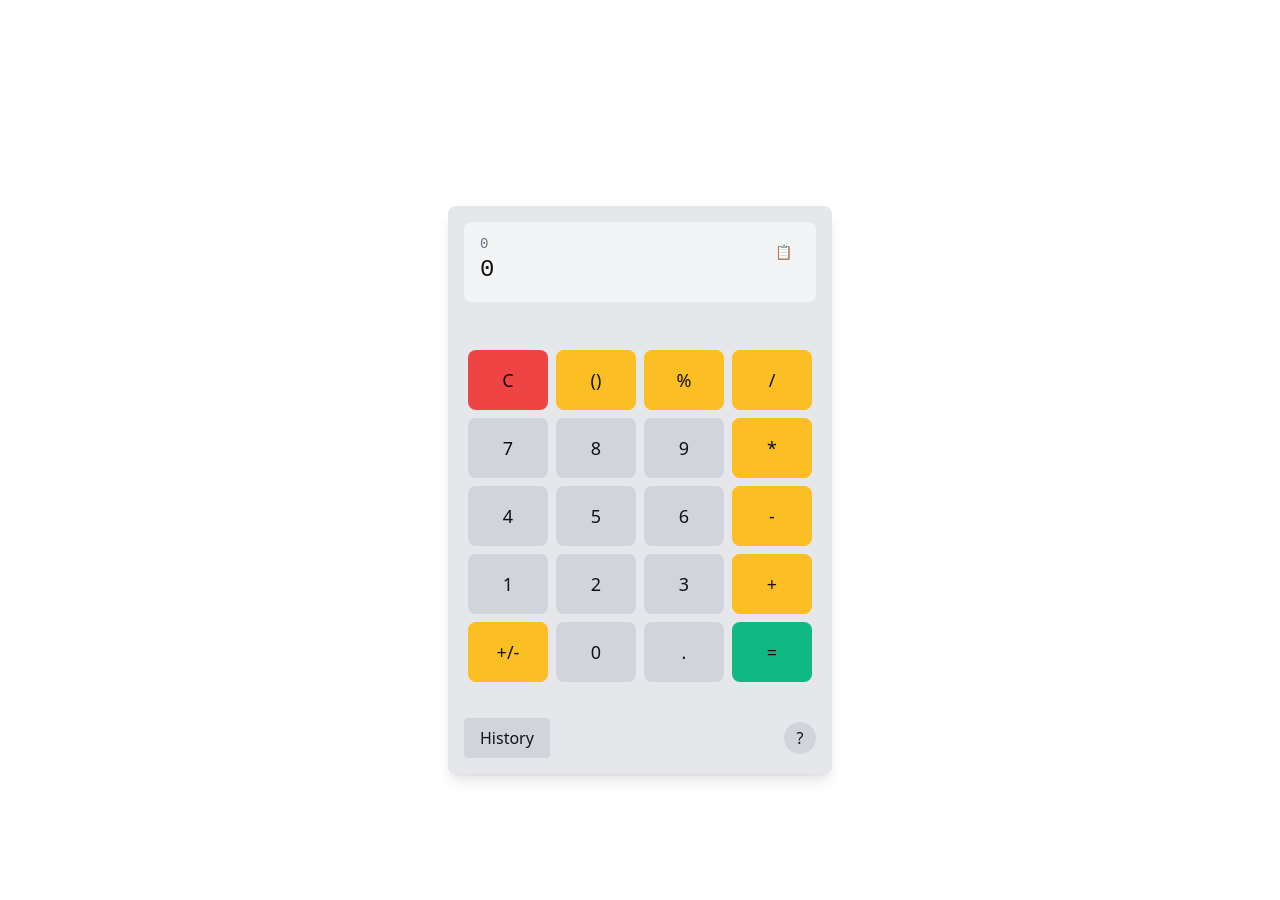
Test: Calculator integration with testIds › opens HelpModal via the “?” button and closes with its Close button
Expected: the text "Keyboard Shortcuts" is not shown
Click the button named "help". click: (800, 738)
box: [784, 722, 816, 754]
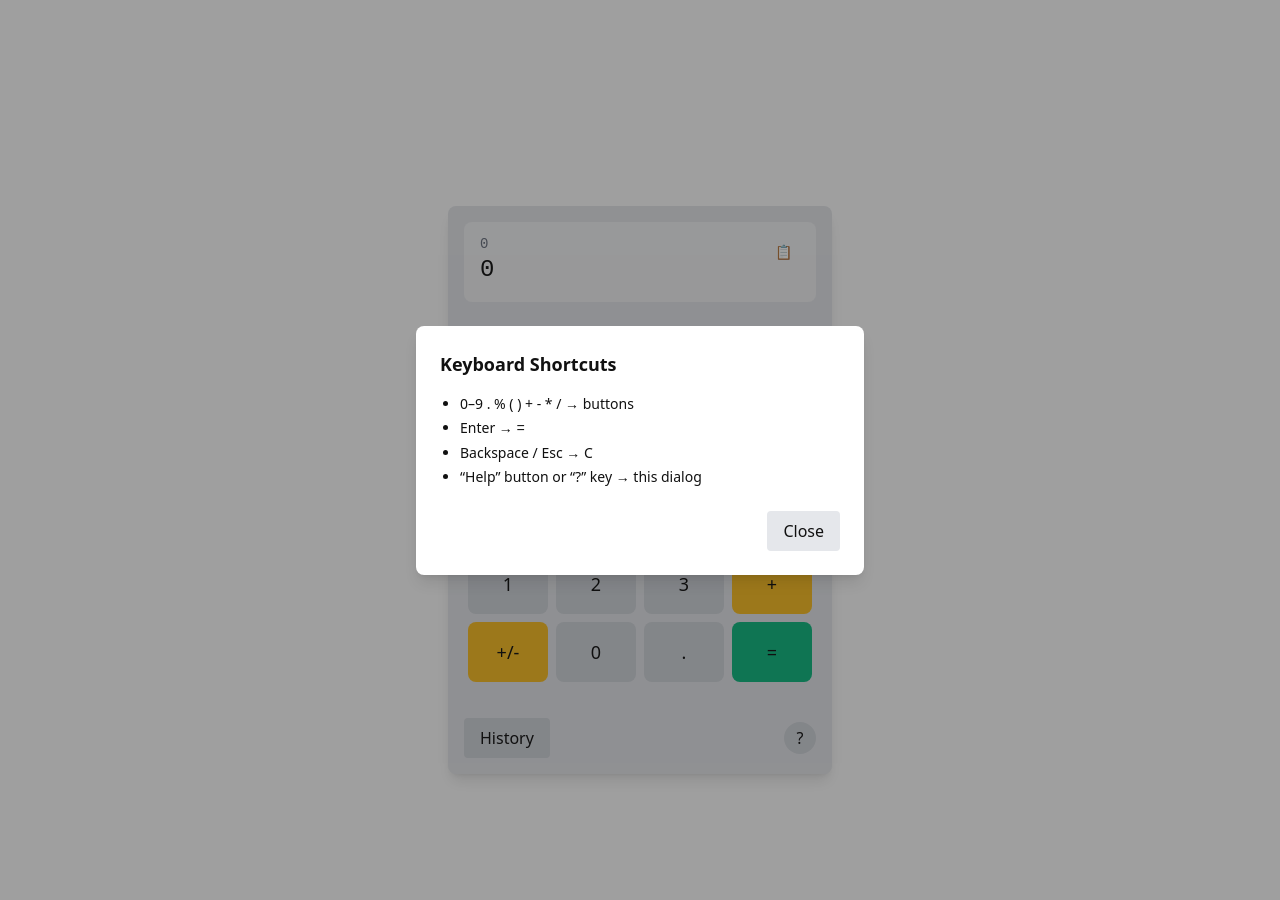
Result: the heading "Keyboard Shortcuts" is shown at [440, 352, 616, 376]
# Close it
Click the button "Close". click: (804, 530)
box: [767, 510, 840, 550]
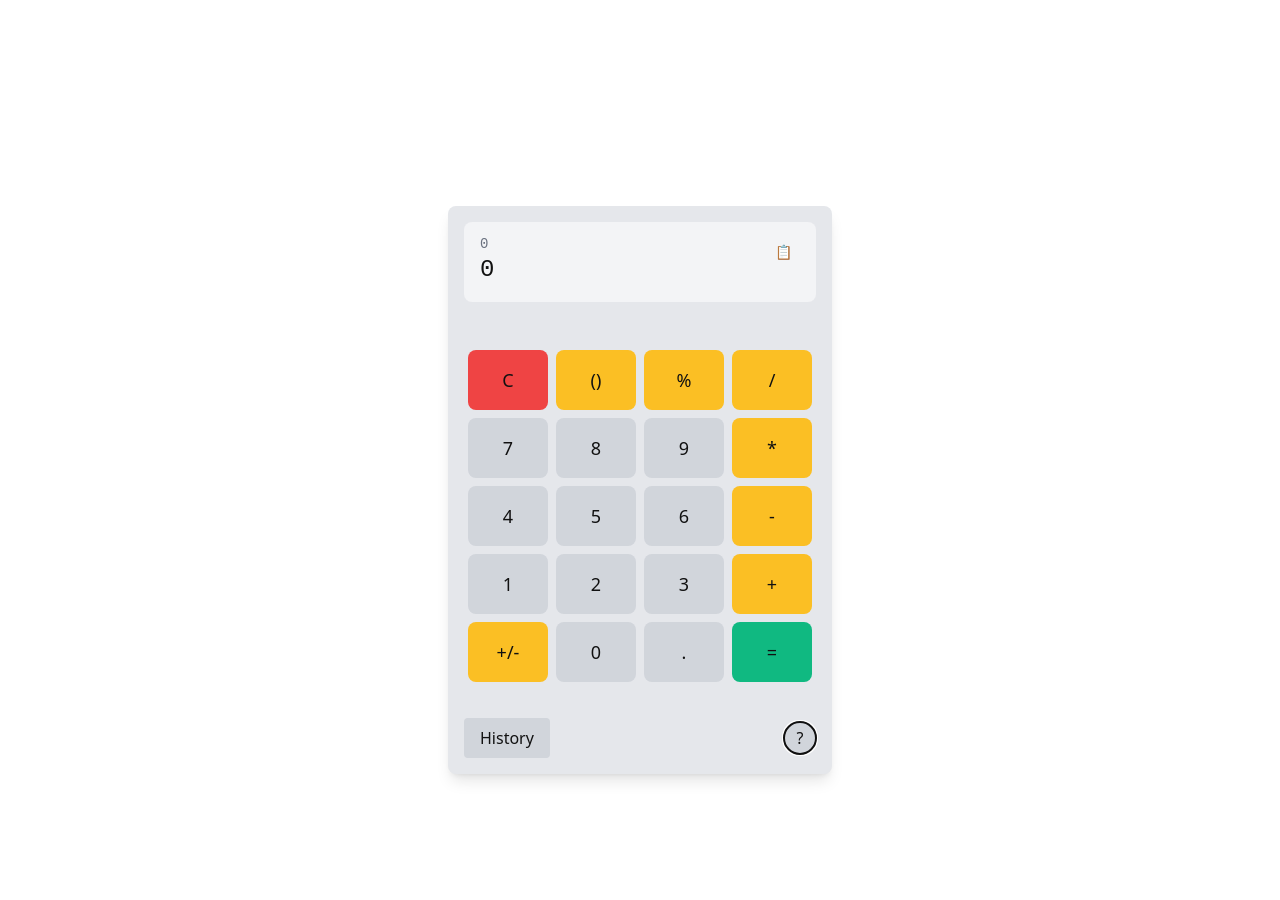
Result: the heading "Keyboard Shortcuts" is gone
